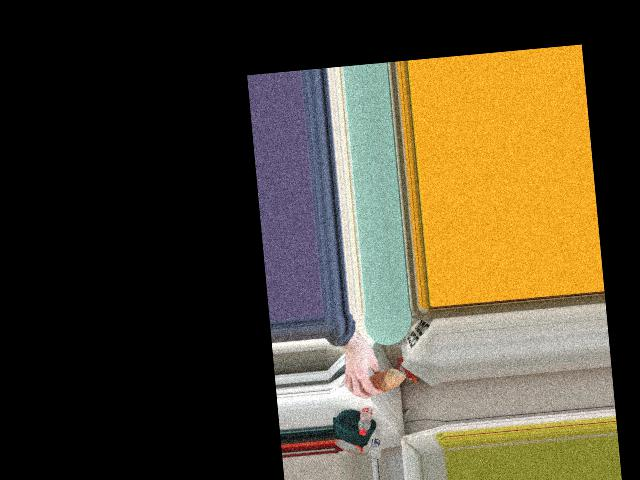sweet_potato: (355, 368, 405, 394)
